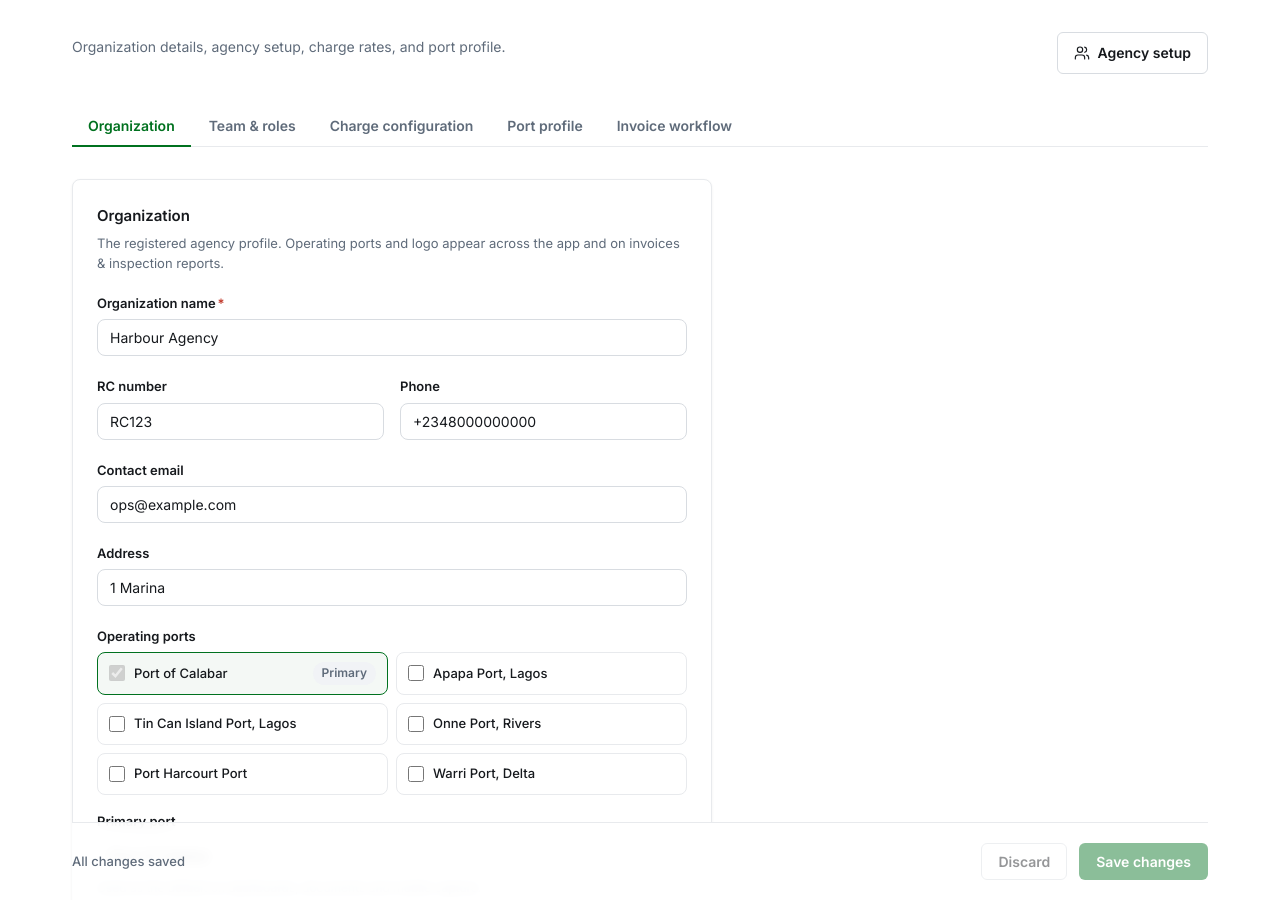
Scenario: Settings › shows inline error feedback when notification settings cannot be saved
Click the tab "Invoice workflow" at (674, 126), box [601, 106, 748, 147]
(page scrolled)
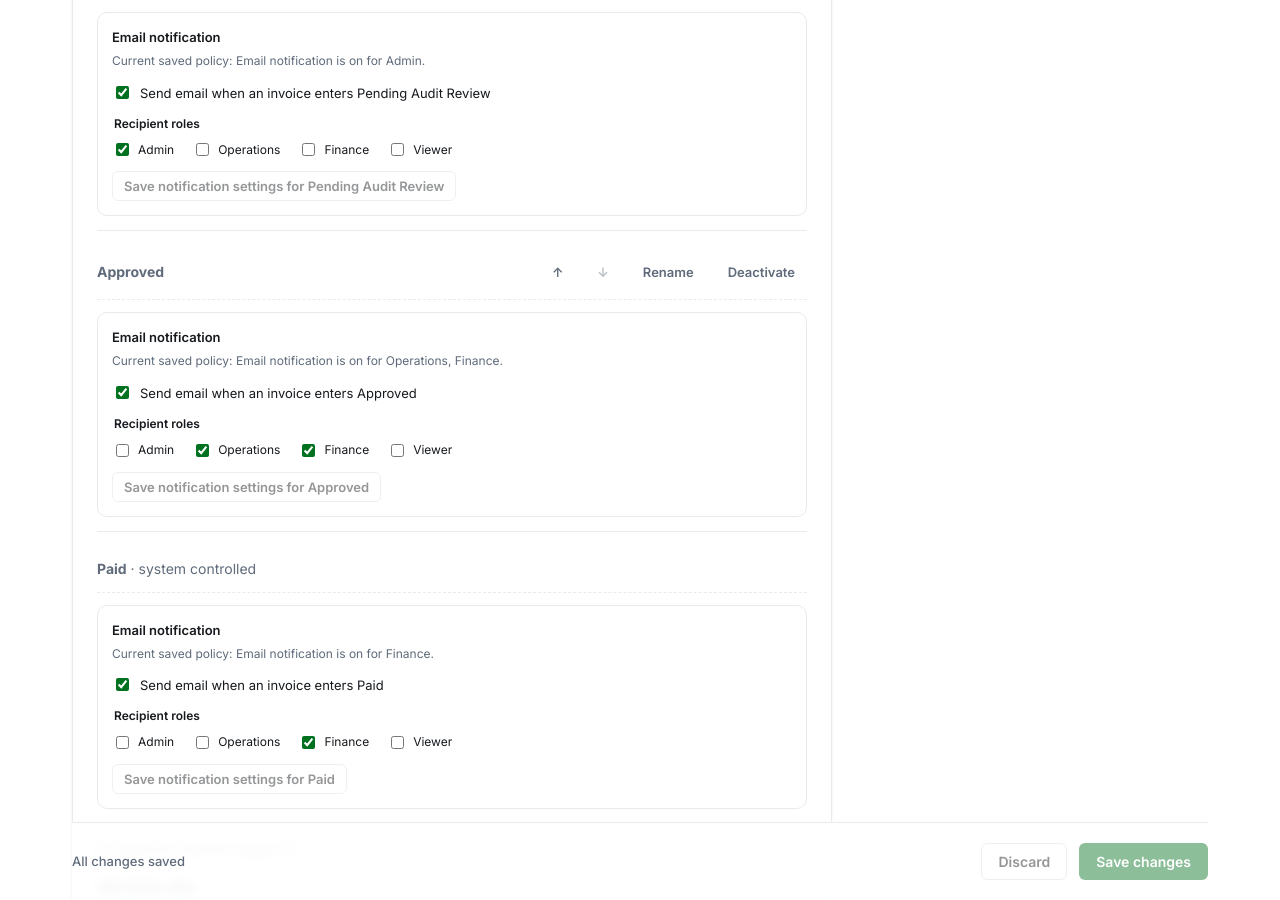
Click the checkbox named "Viewer recipients for Approved" at (398, 450), box [391, 444, 404, 457]
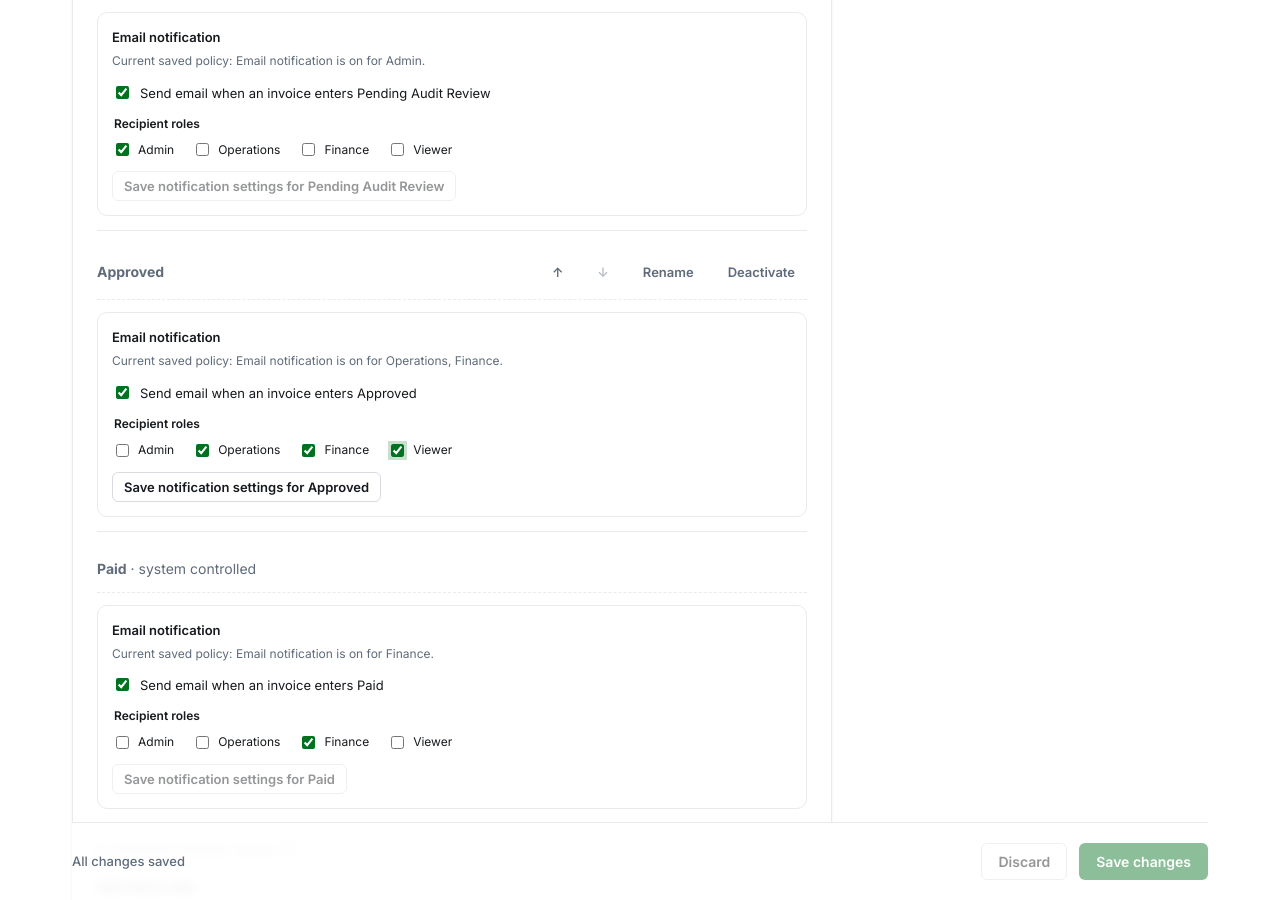
Click the button "Save notification settings for Approved" at (247, 487), box [112, 472, 381, 502]
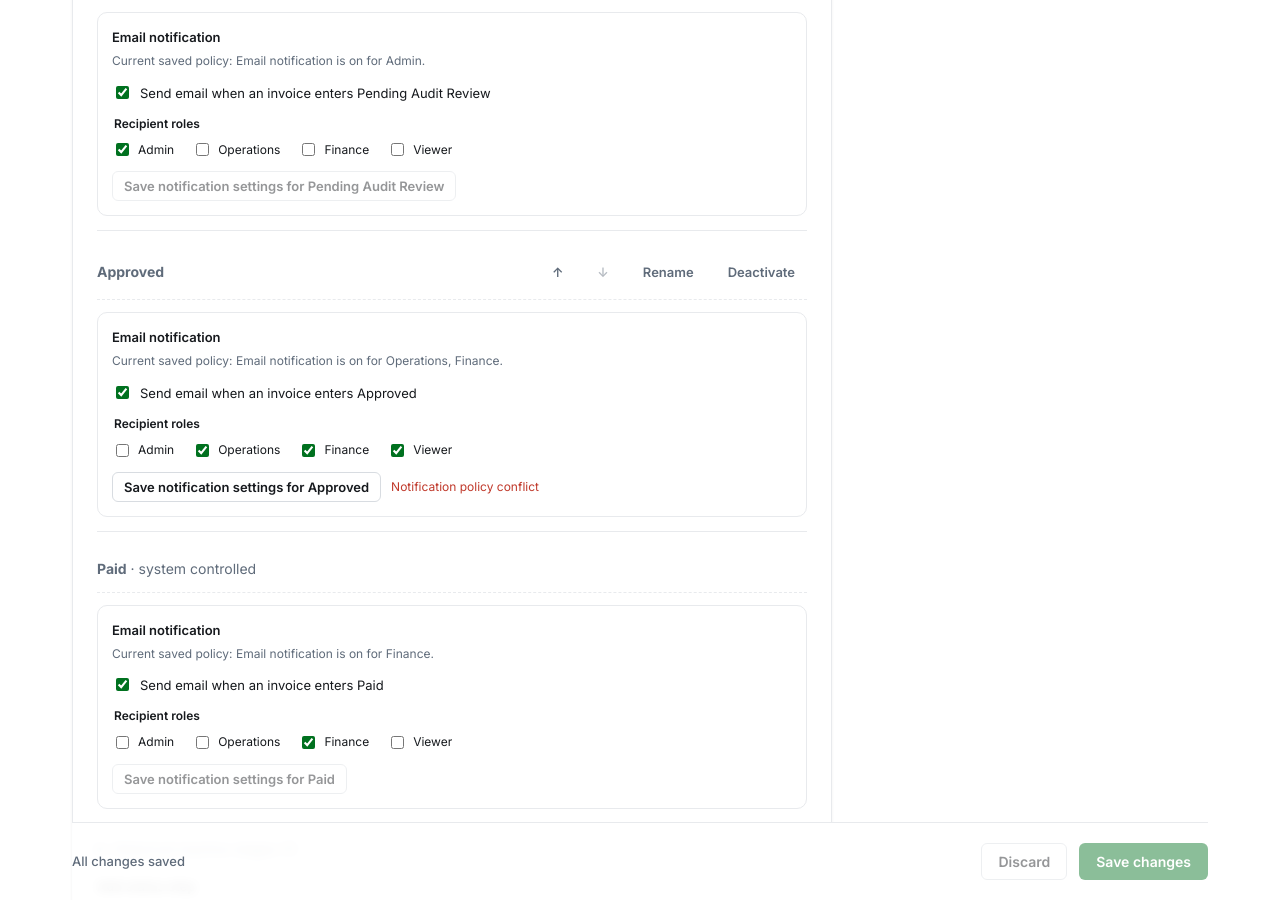
Check: the message reads "Notification policy conflict", box [391, 478, 539, 494]
